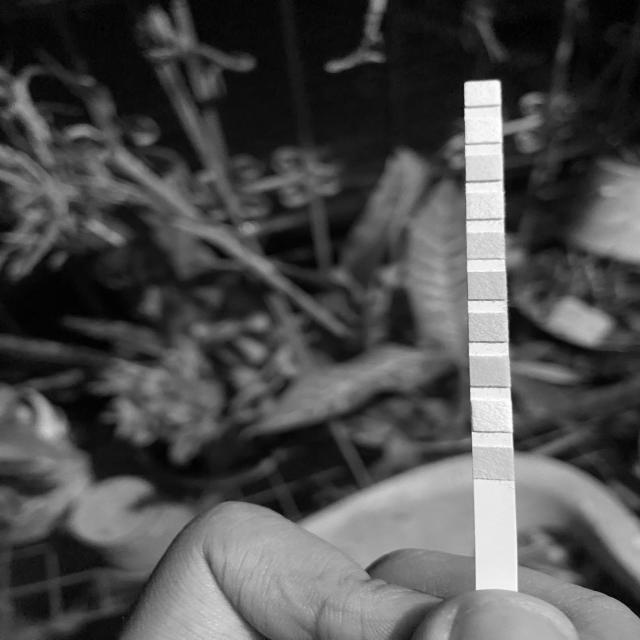Bilirubin: (472, 401, 512, 431)
Blood: (468, 272, 505, 299)
Glucose: (474, 447, 512, 479)
Ketone: (471, 357, 510, 386)
Leukocytes: (466, 82, 500, 104)
Nitrite: (466, 120, 502, 142)
Protein: (468, 193, 503, 218)
SpGravity: (469, 313, 508, 342)
Urobilinogen: (467, 157, 502, 179)
background: (0, 0, 640, 640)
pH: (468, 234, 504, 258)
strip: (465, 81, 518, 588)
